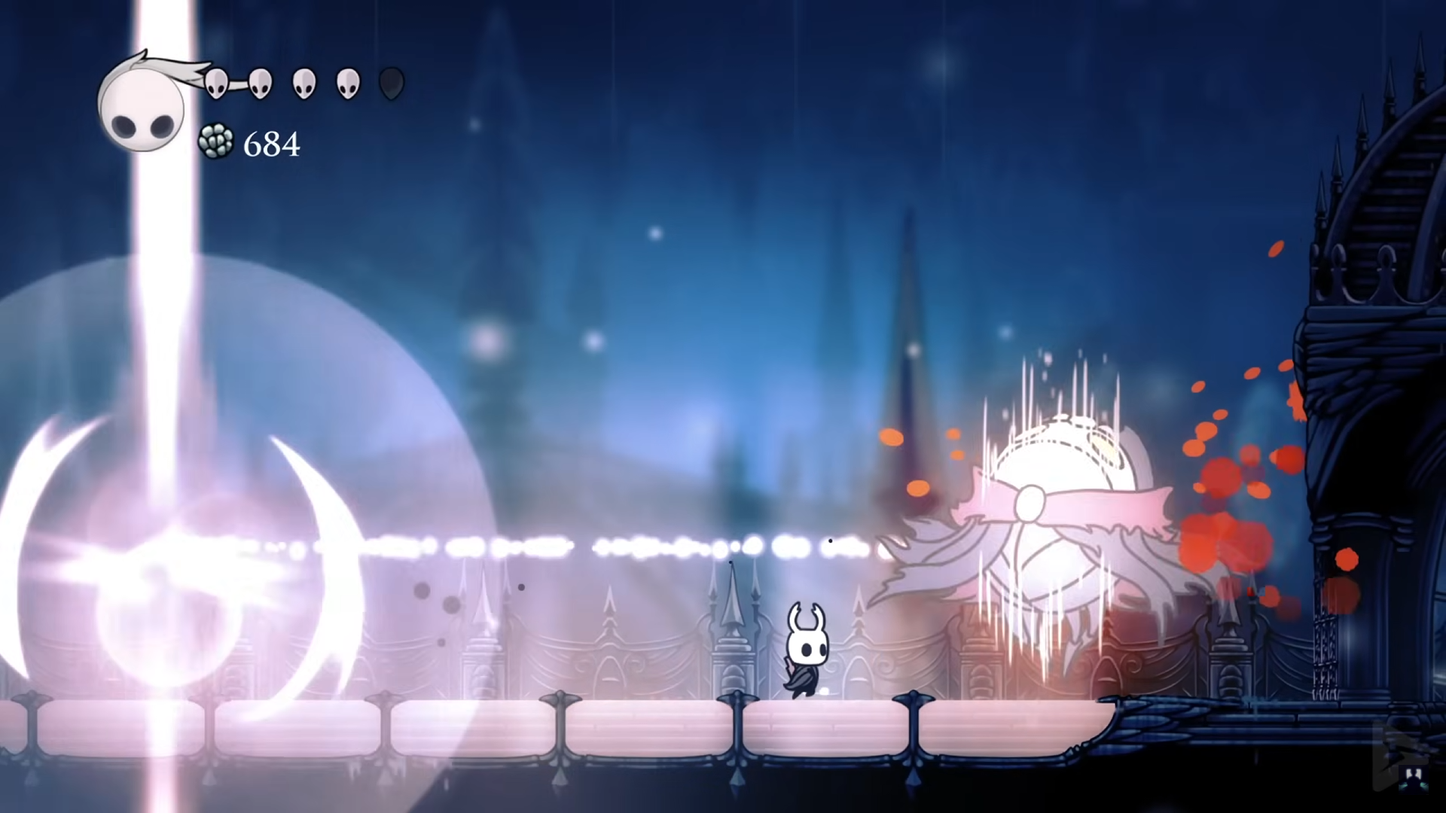HK: (777, 598, 836, 702)
